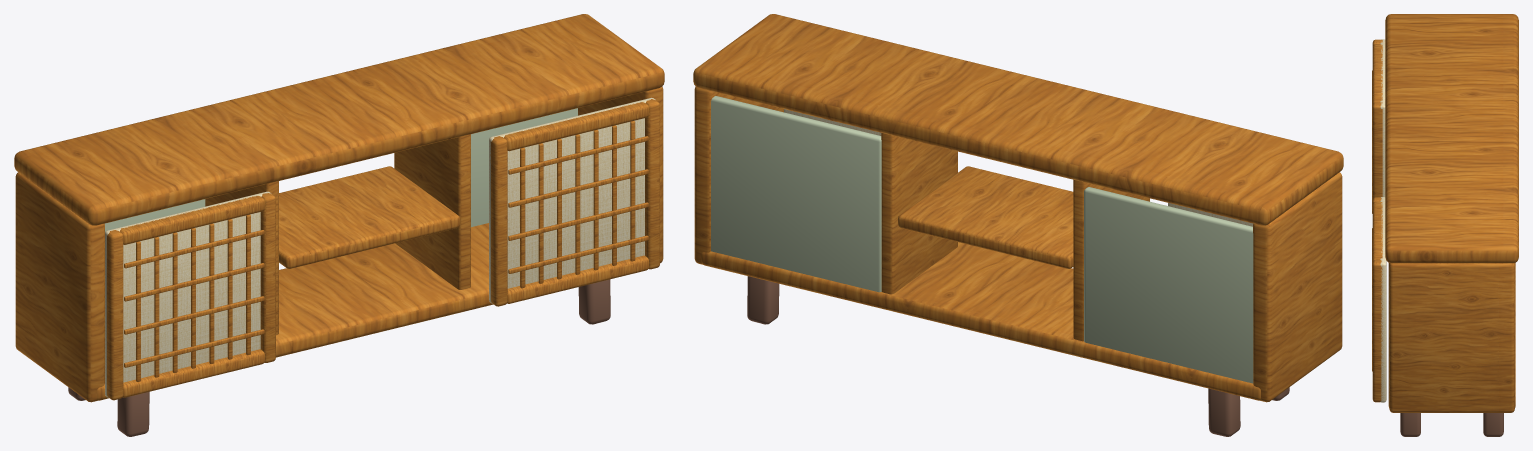
The model's file is cane-tv-stand.glb.
The picture shows the model from 3 angles, left to right: view 1: azimuth 30°, elevation 25°; view 2: azimuth 150°, elevation 25°; view 3: azimuth 270°, elevation 25°; orthographic projection. The views are drawn at different scales.
Visible parts, largest first — view 1: cane-tv-stand; view 2: cane-tv-stand; view 3: cane-tv-stand.
Boxes of the visible parts, x1=… form: cane-tv-stand: x1=14, y1=14, x2=664, y2=436; cane-tv-stand: x1=693, y1=14, x2=1343, y2=436; cane-tv-stand: x1=1372, y1=14, x2=1518, y2=436.
Bounding box in the file's own units: 1.6 × 0.66 × 0.42.
4 materials, 2 textured.
